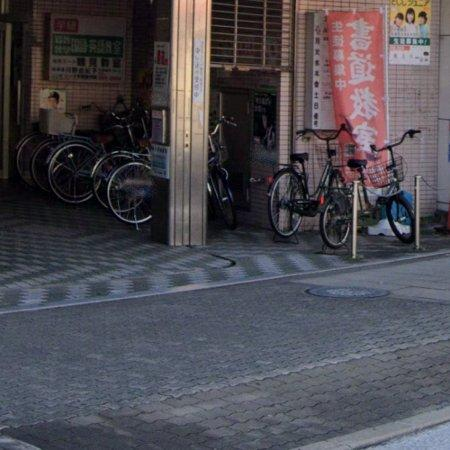bicycles: (349, 129, 422, 243), (321, 185, 353, 249)
